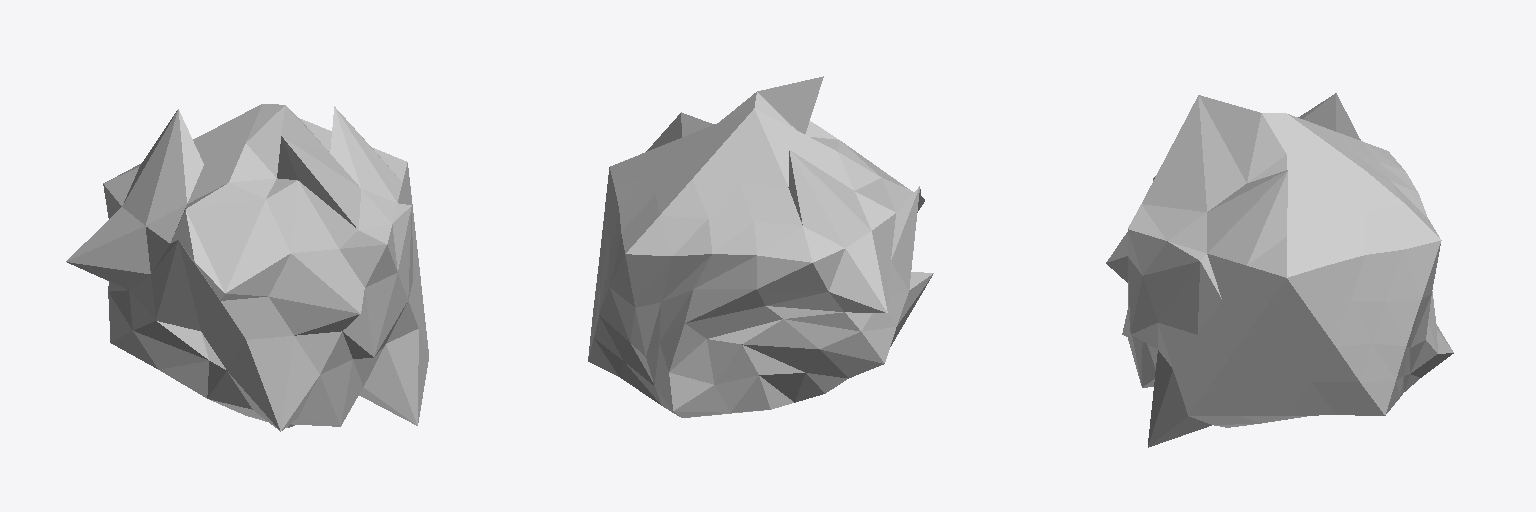
The model's file is peyotl.obj.
The picture shows the model from 3 angles: view 1: azimuth 30°, elevation 25°; view 2: azimuth 150°, elevation 25°; view 3: azimuth 270°, elevation 25°; orthographic projection.
Parts seen in each view (by area): view 1: Icosphere; view 2: Icosphere; view 3: Icosphere.
Part boxes in pixels (x1,y1,x2,y2): Icosphere: (66, 104, 428, 431); Icosphere: (588, 76, 933, 417); Icosphere: (1106, 93, 1453, 447).
Bounding box in the file's own units: 0.6412 × 0.6068 × 0.6233.